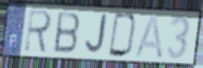3: (166, 15, 193, 62)
A: (133, 13, 165, 60)
B: (52, 10, 82, 54)
D: (107, 11, 139, 59)
J: (84, 13, 108, 55)
R: (22, 8, 54, 55)
